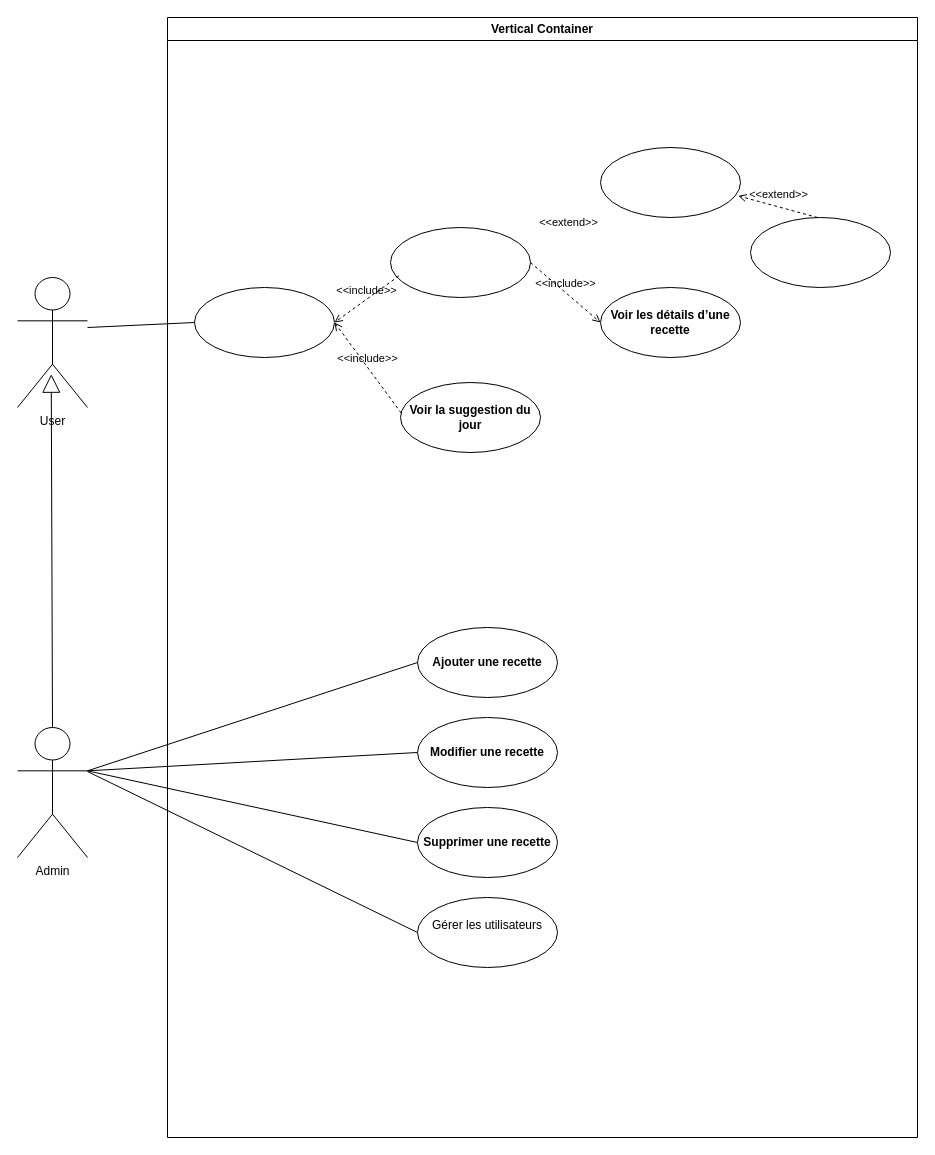
Image size: 935x1155. Some labels were removed from this diagram. Each missing label, with the centre of its shape:
"Authentification" belongs at [264,322].
"Consulter les recettes" belongs at [460,262].
"Filtrer par pays" belongs at [820,252].
"Rechercher une recette" belongs at [670,182].
